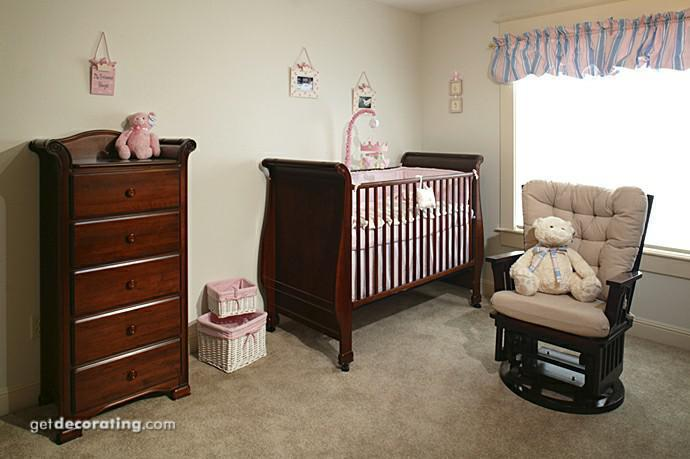Armario: (61, 161, 189, 412)
Cama: (272, 155, 487, 347)
Otro Obstaculo: (200, 284, 277, 378)
Ventana: (508, 40, 687, 268)
